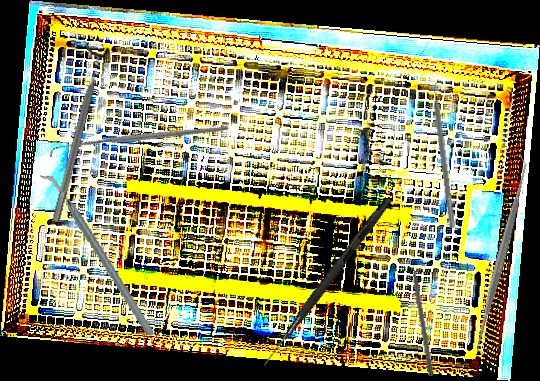Chopper: (39, 158, 154, 350)
Fixation Ring: (41, 41, 114, 227)
Hook Surgical: (48, 64, 230, 219), (261, 195, 392, 370)
Pusher: (408, 252, 436, 377)
Spatula Surgical: (464, 154, 539, 356), (428, 78, 463, 229)
